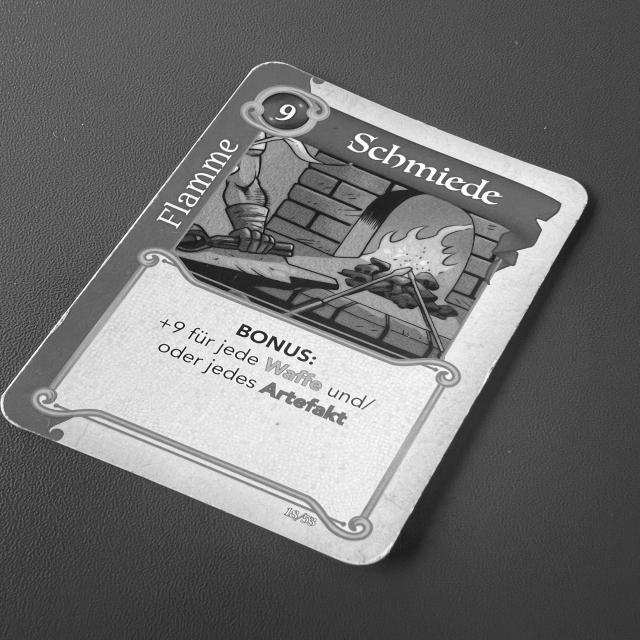Forge: (0, 56, 598, 574)
